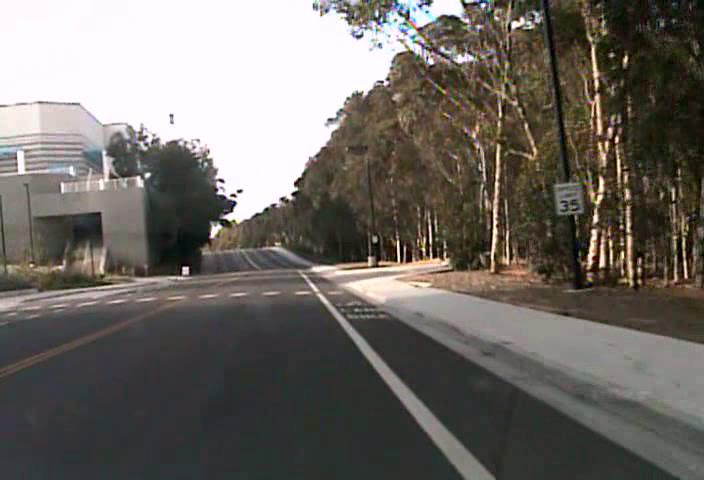speedLimit35: (553, 180, 585, 215)
